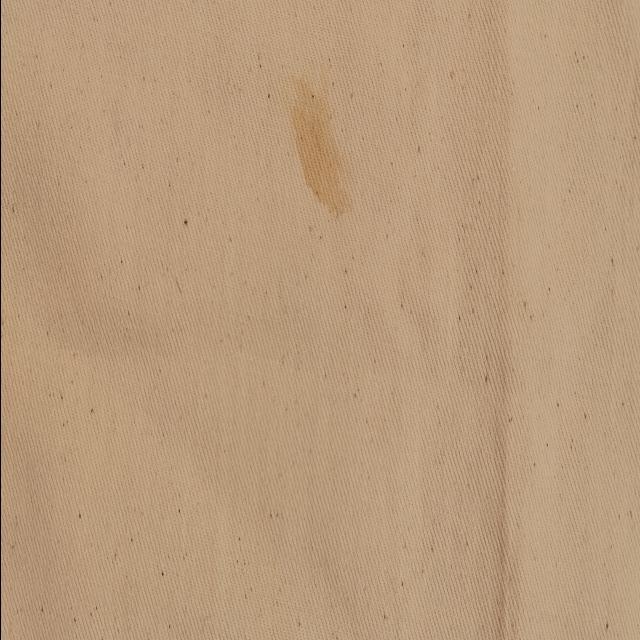taaaches: (276, 52, 364, 230)
